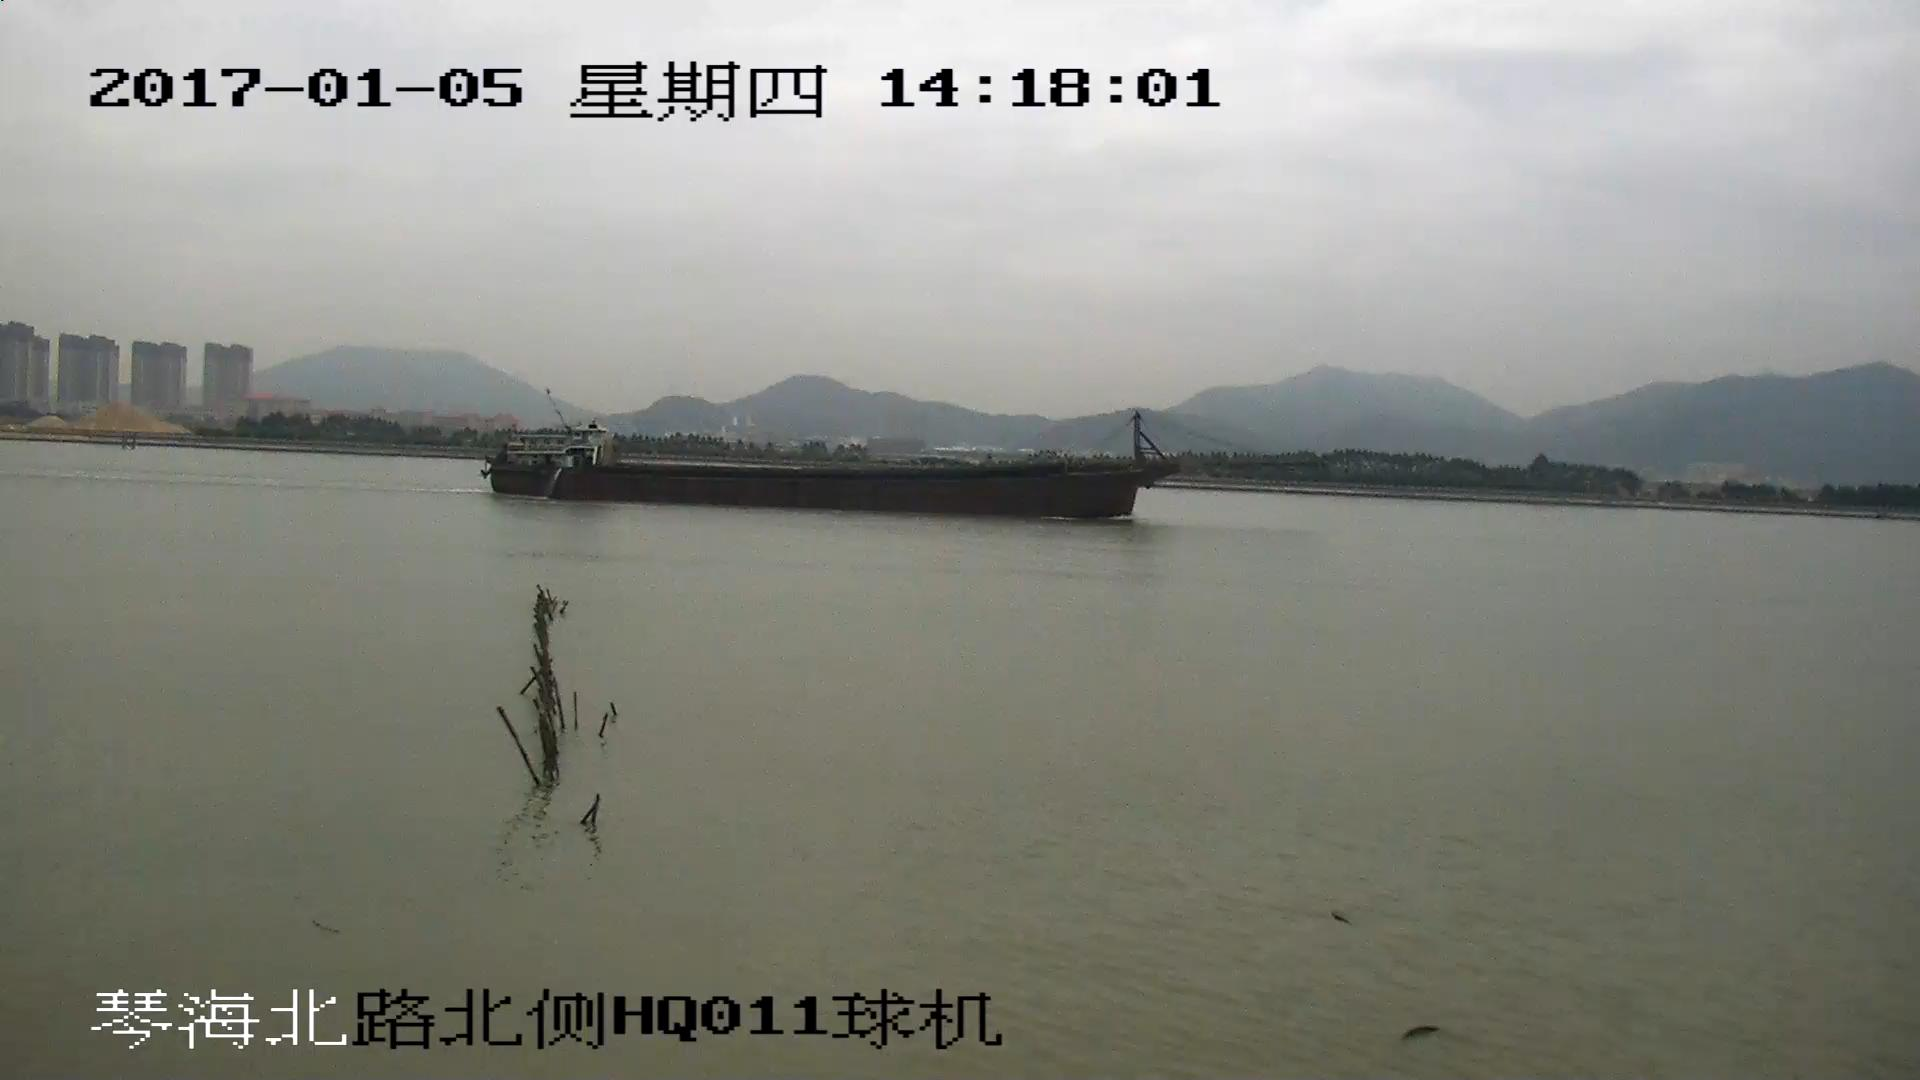bulk cargo carrier: (479, 402, 1270, 521)
